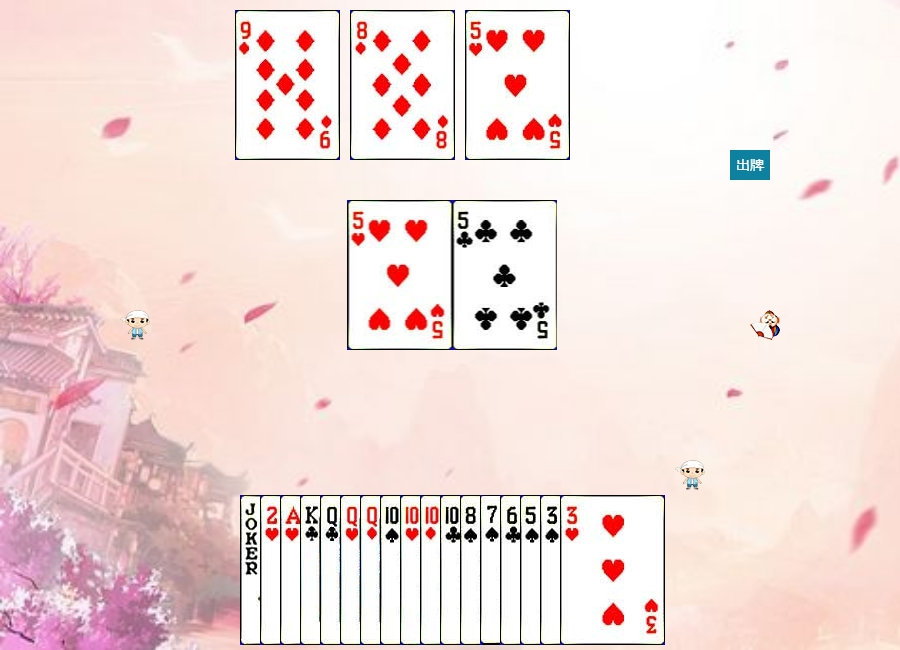10~1: (420, 495, 525, 645)
10~2: (440, 495, 545, 645)
10~3: (400, 495, 505, 645)
10~4: (380, 495, 485, 645)
12~1: (360, 495, 465, 645)
12~2: (320, 495, 425, 645)
12~3: (340, 495, 445, 645)
13~2: (300, 495, 405, 645)
14~3: (280, 495, 385, 645)
15~3: (260, 495, 365, 645)
17~3: (240, 495, 345, 645)
3~3: (560, 495, 665, 645)
3~4: (540, 495, 645, 645)
5~2: (453, 200, 558, 350)
5~3: (465, 10, 570, 160), (348, 200, 453, 350)
5~4: (520, 495, 625, 645)
6~2: (500, 495, 605, 645)
7~4: (480, 495, 585, 645)
8~1: (350, 10, 455, 160)
8~4: (460, 495, 565, 645)
9~1: (235, 10, 340, 160)
